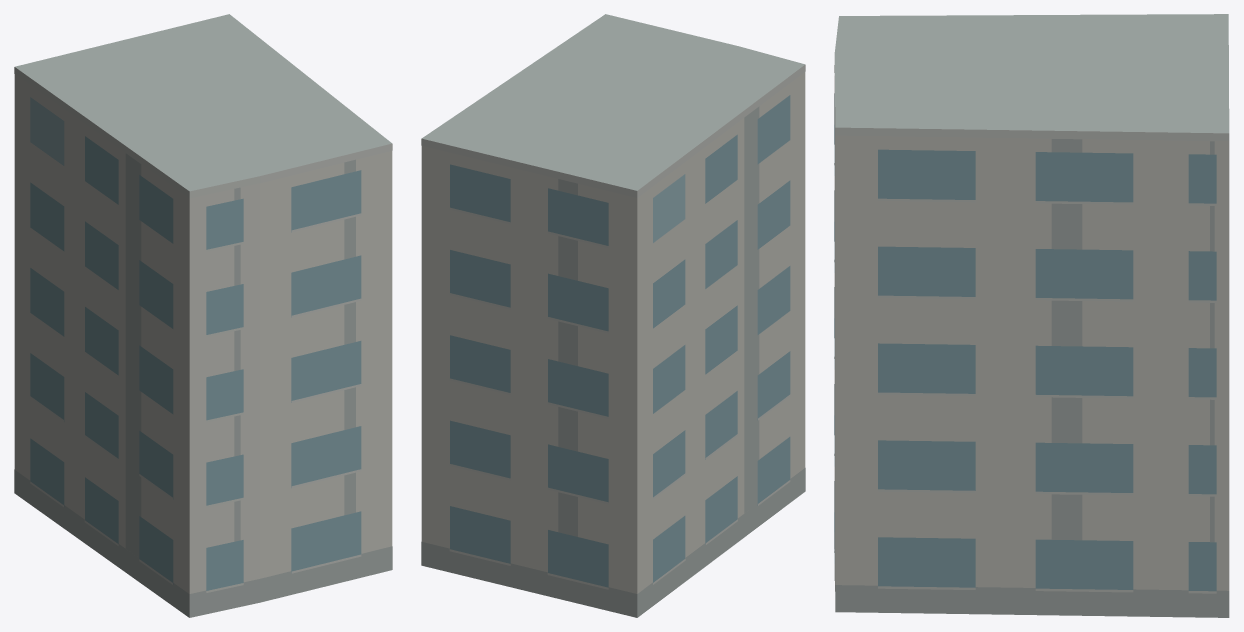
File: survey-upis-32557136.glb
3 views of the same model, side by side, from view 1: azimuth 30°, elevation 25°; view 2: azimuth 150°, elevation 25°; view 3: azimuth 270°, elevation 25° (orthographic). The views are drawn at different scales.
Parts seen in each view (by area): view 1: survey-upis-32557136.tmp; view 2: survey-upis-32557136.tmp; view 3: survey-upis-32557136.tmp.
Part boxes in pixels (x1,y1,x2,y2): survey-upis-32557136.tmp: [14, 14, 392, 617]; survey-upis-32557136.tmp: [421, 14, 805, 617]; survey-upis-32557136.tmp: [834, 14, 1229, 617].
Size of the model in its own units: 7.72 by 14.6 by 10.8.
